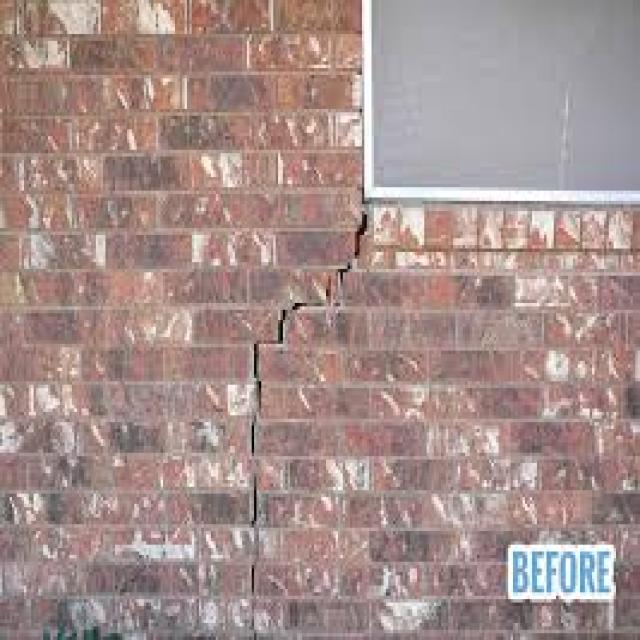Crack: (247, 204, 369, 637)
